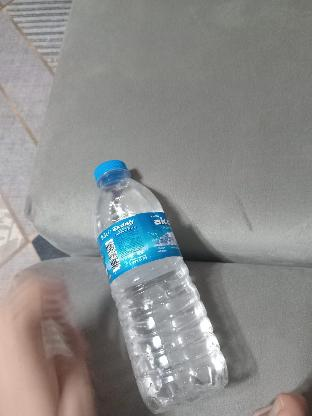Plastic Bottle: (93, 157, 229, 413)
